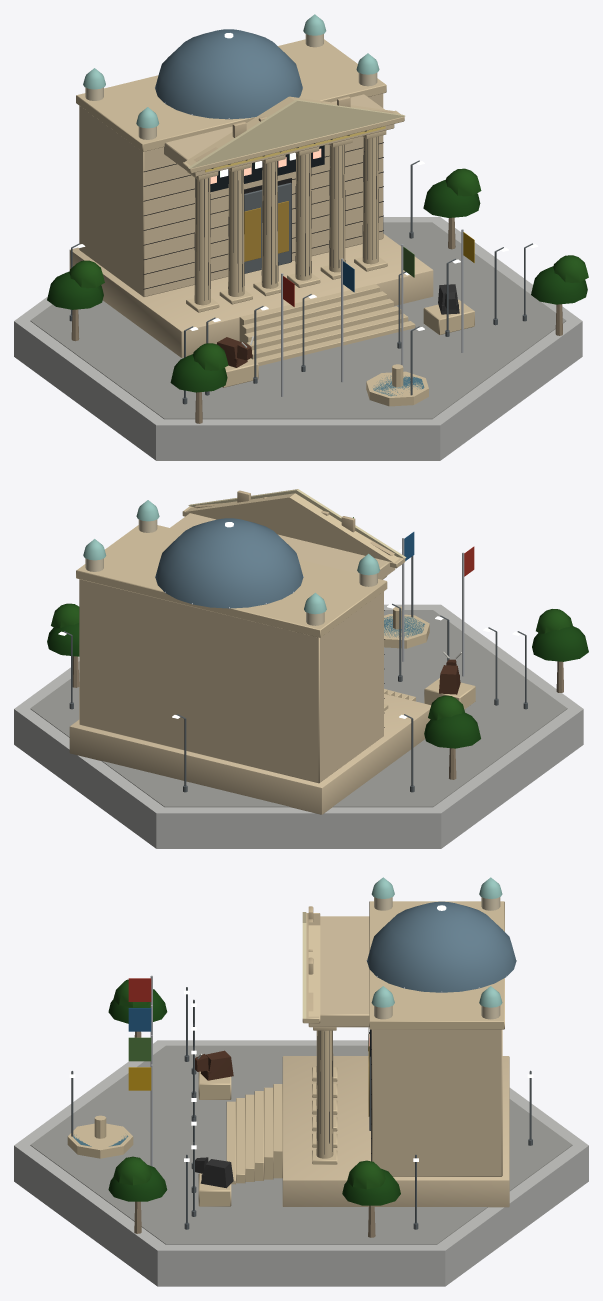
The model's file is stockExchange_arab.glb.
The picture shows the model from 3 angles, top to bottom: view 1: azimuth 30°, elevation 25°; view 2: azimuth 150°, elevation 25°; view 3: azimuth 270°, elevation 25°; orthographic projection.
Parts seen in each view (by area): view 1: stone, pavers, wall_concrete, glass, leaf, dark, steel_dark, paint, gold, copper, metal, wood (+1 smaller); view 2: stone, wall_concrete, pavers, glass, leaf, steel_dark, copper, paint, plaster, metal, wood; view 3: stone, pavers, wall_concrete, glass, leaf, paint, steel_dark, copper, plaster, dark, wood.
Boxes of the visible parts, <box> form: stone: <box>69,39,474,406</box>; pavers: <box>30,222,566,419</box>; wall_concrete: <box>14,217,582,460</box>; glass: <box>155,29,424,396</box>; leaf: <box>47,168,588,392</box>; dark: <box>143,130,383,300</box>; steel_dark: <box>69,160,532,404</box>; paint: <box>210,145,474,367</box>; gold: <box>205,126,385,261</box>; copper: <box>83,14,379,128</box>; metal: <box>154,87,463,396</box>; wood: <box>71,217,562,423</box>; stone: <box>69,489,475,814</box>; wall_concrete: <box>14,604,583,848</box>; pavers: <box>30,610,567,807</box>; glass: <box>155,518,424,637</box>; leaf: <box>47,603,588,748</box>; steel_dark: <box>63,556,527,792</box>; copper: <box>83,500,380,614</box>; paint: <box>353,517,474,694</box>; plaster: <box>85,519,377,625</box>; metal: <box>155,538,464,676</box>; wood: <box>72,656,563,779</box>; stone: <box>67,901,509,1207</box>; pavers: <box>30,1045,572,1244</box>; wall_concrete: <box>14,1040,588,1286</box>; glass: <box>73,901,516,1146</box>; leaf: <box>108,979,400,1205</box>; paint: <box>128,978,370,1188</box>; steel_dark: <box>71,987,532,1229</box>; copper: <box>371,877,502,1007</box>; plaster: <box>374,897,500,1019</box>; dark: <box>317,1029,371,1161</box>; wood: <box>134,1027,375,1237</box>.
Bounding box in the file's own units: 21.31 × 12.95 × 24.6.
